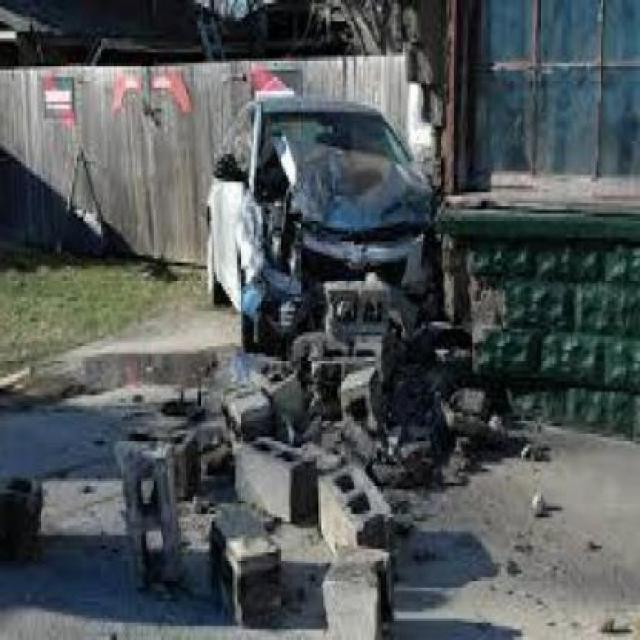damage: (240, 136, 436, 334)
